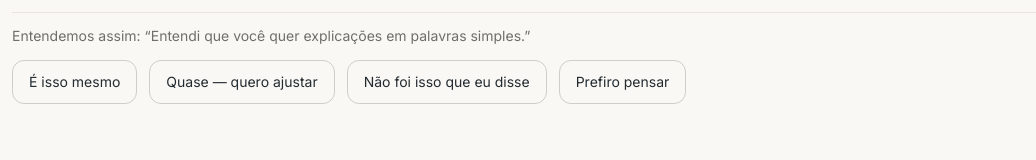
C8/C9 · cada retorno da RPC tem a própria frase › NAO_AUTORIZADO chega à tela com a frase específica, nunca a genérica
The width and height of the screenshot is (1036, 160).
Click the button "É isso mesmo" at (75, 82), box [12, 60, 137, 104]
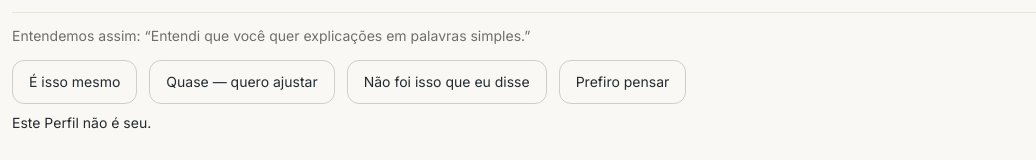
Expected: the message reads "Este Perfil não é seu.", [12, 114, 151, 131]
